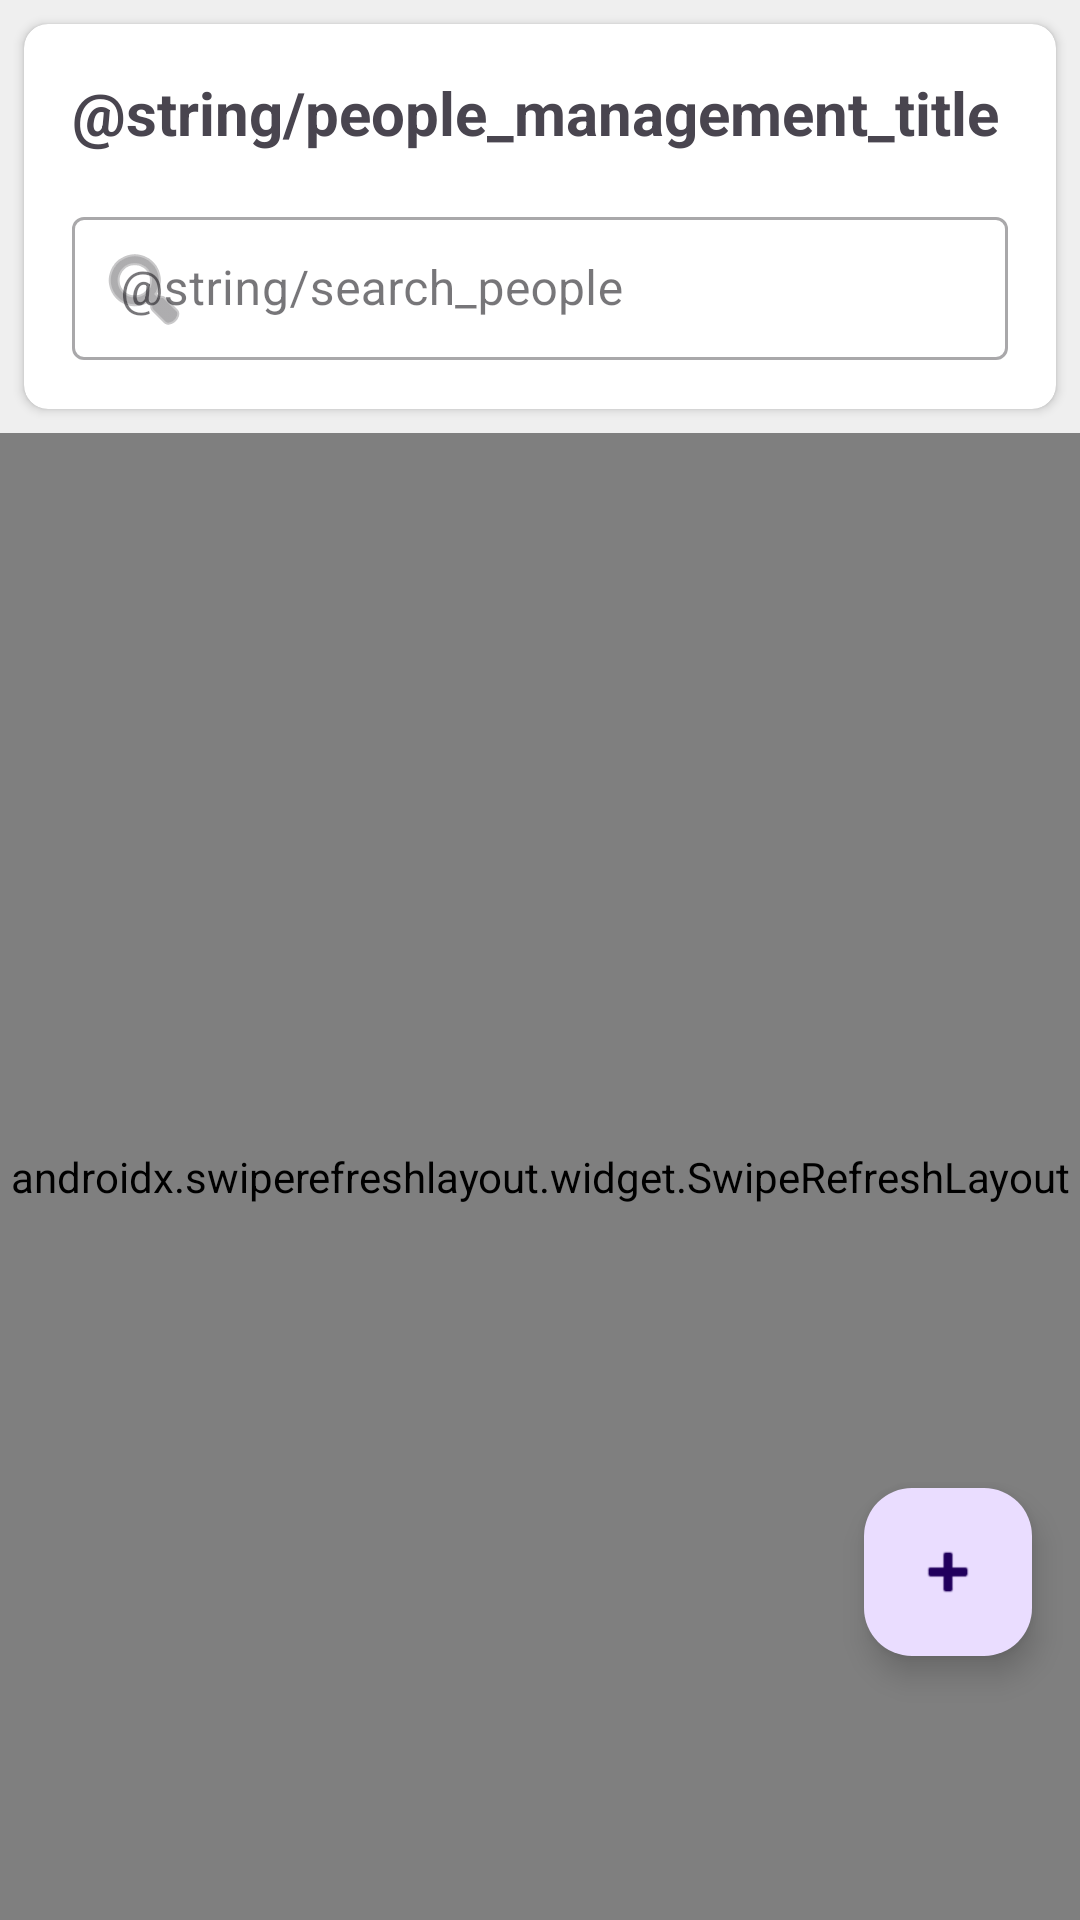

Icons on this 1080px x 1920px Android screen, each with the point to tap as (x,y):
Thêm người dùng mới: (948,1572)
